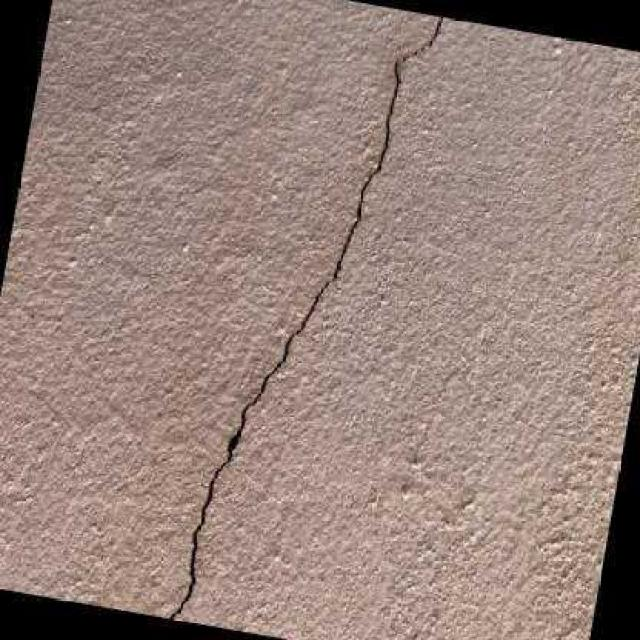D00: (165, 15, 446, 615)
